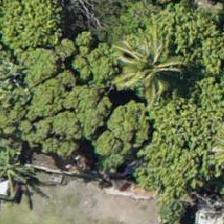coconut_tree: (101, 16, 191, 106)
